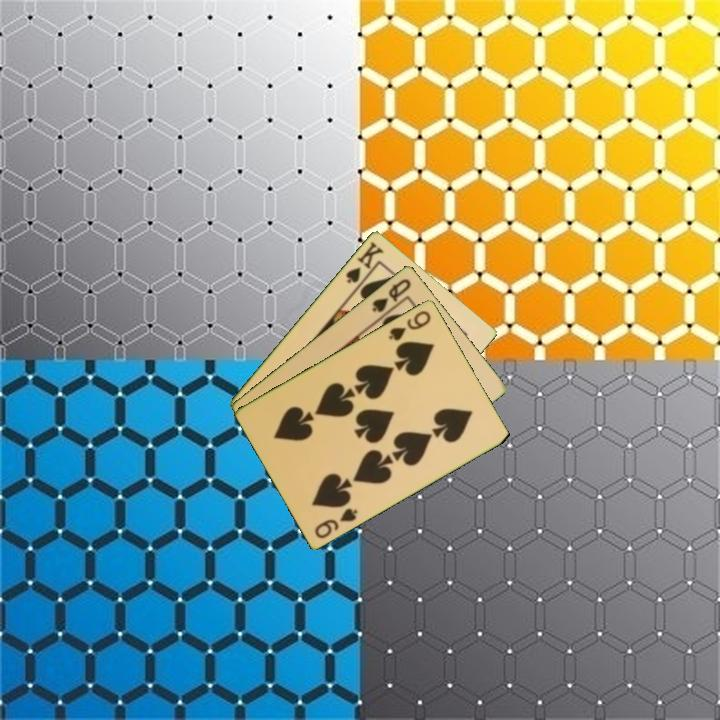9s: (385, 306, 434, 344), (311, 504, 361, 541)
Ks: (342, 238, 387, 286)
Qs: (368, 275, 414, 315)
